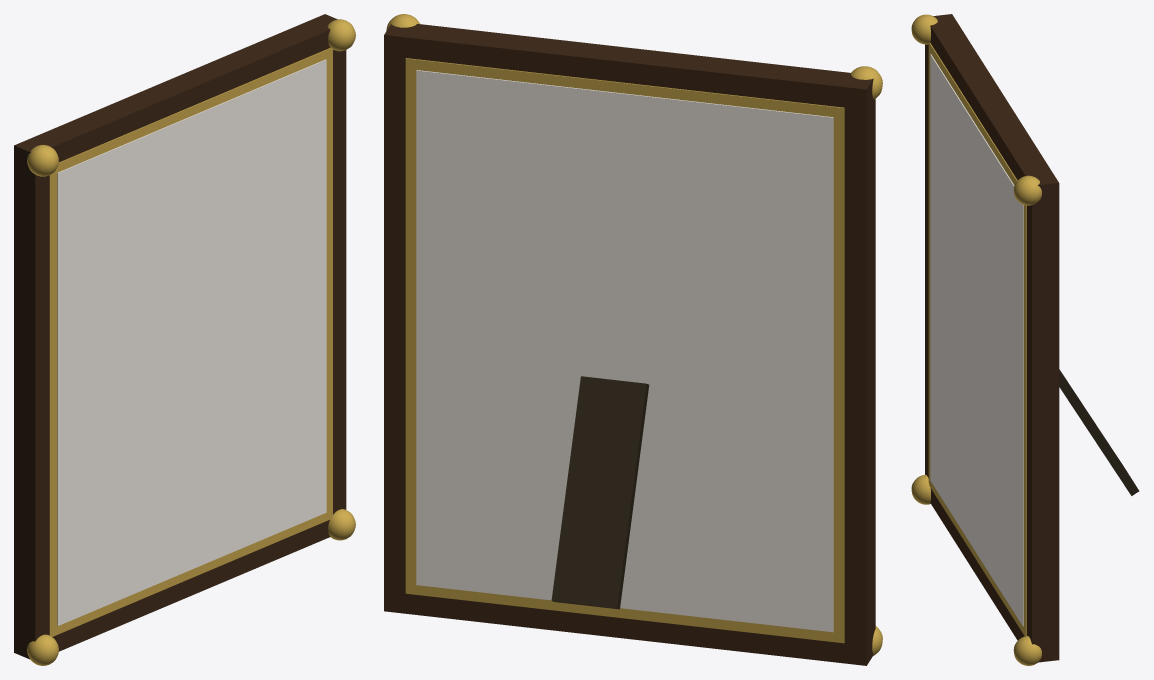
File: picture_frame.glb
The picture shows the model from 3 angles, left to right: view 1: azimuth 30°, elevation 25°; view 2: azimuth 150°, elevation 25°; view 3: azimuth 270°, elevation 25°; orthographic projection. The views are drawn at different scales.
Bounding box in the file's own units: 2.2 × 2.86 × 1.21.
